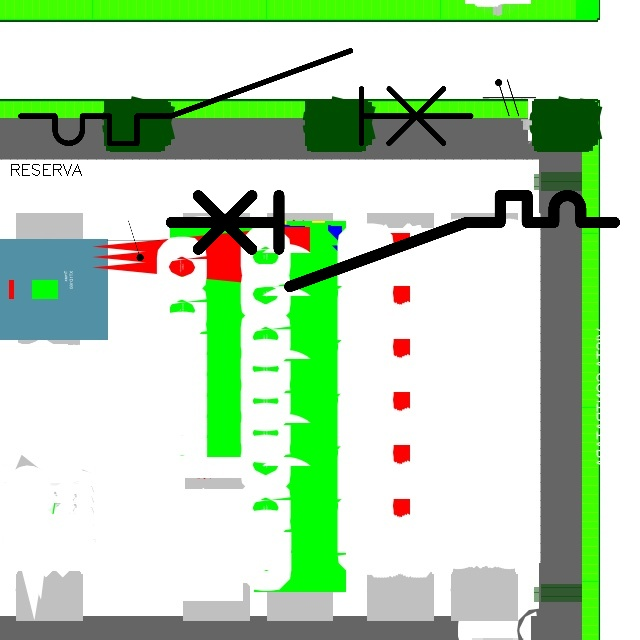interruptor_termomagnetico: (9, 39, 482, 155), (159, 184, 625, 298)
